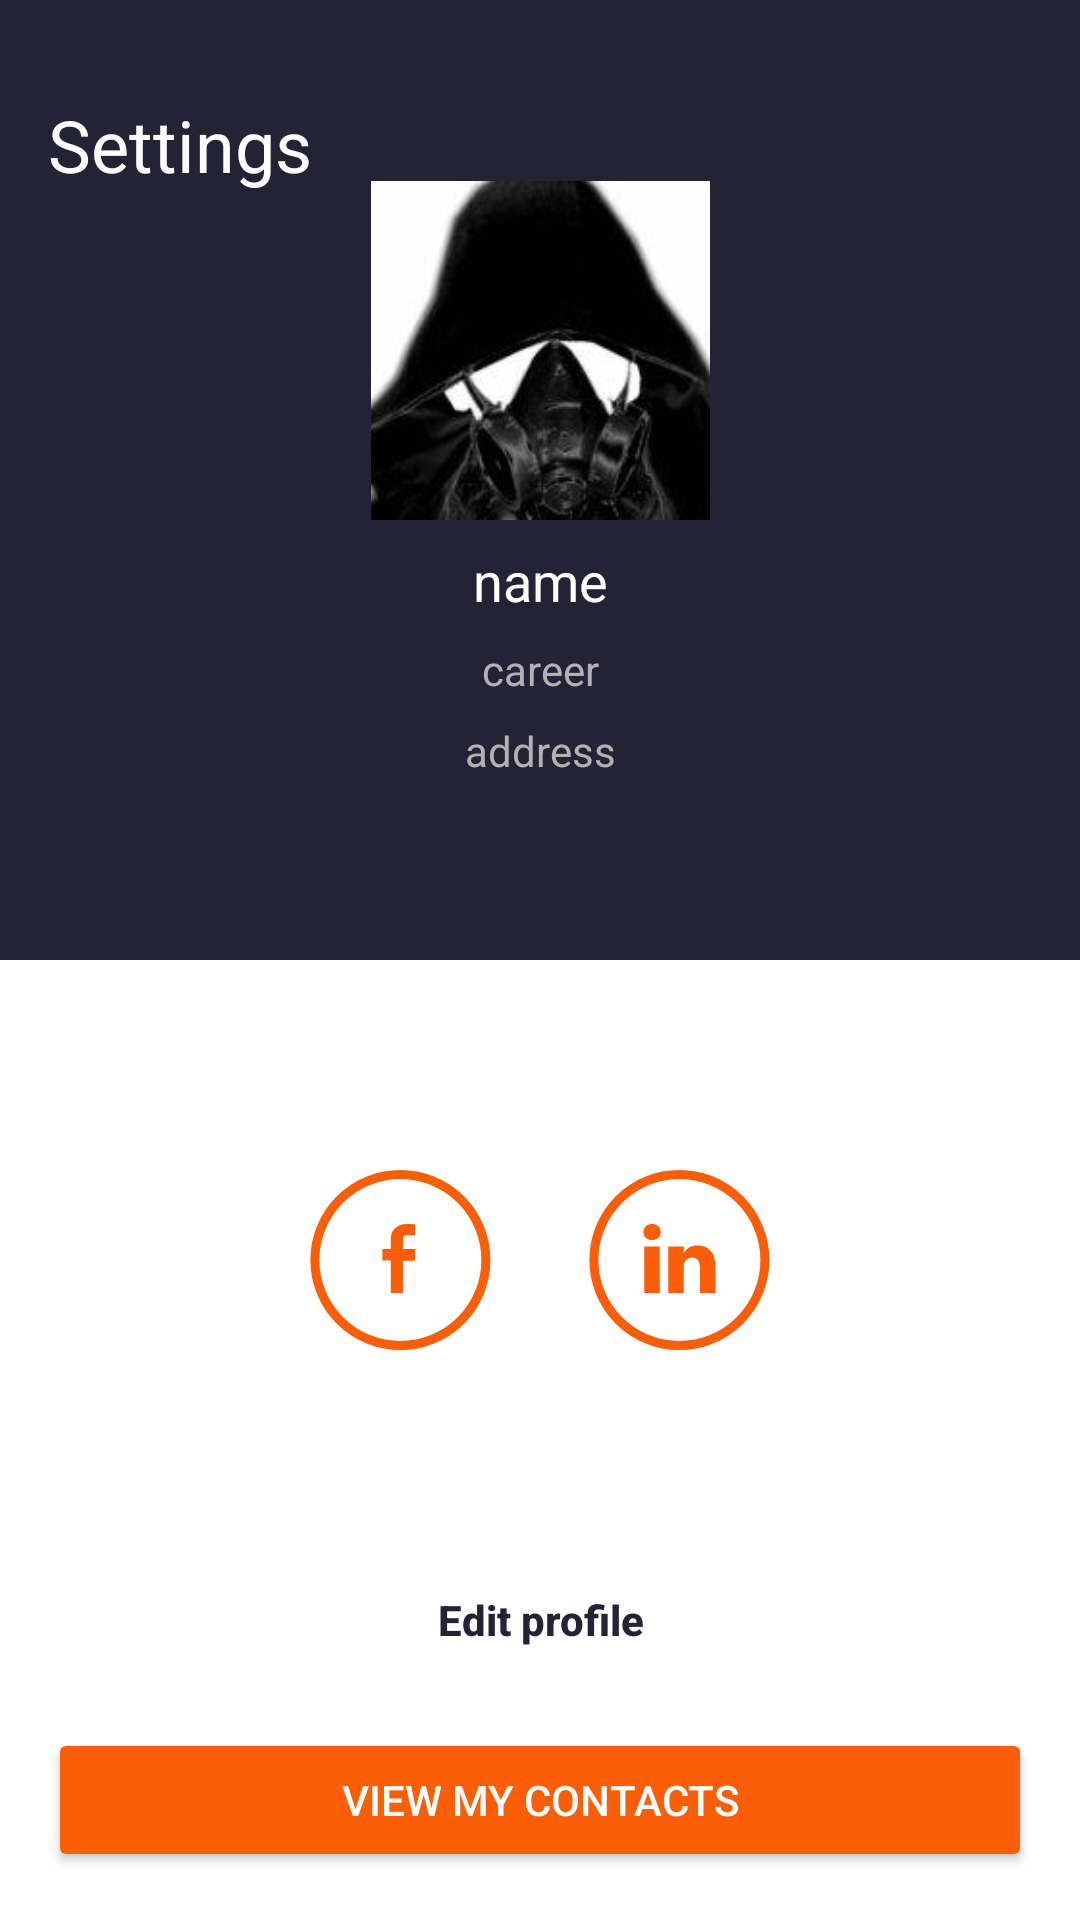

Icons on this 1080px x 1920px Android screen, each with the point to tap as [x,y]:
user photo: [540,350]
